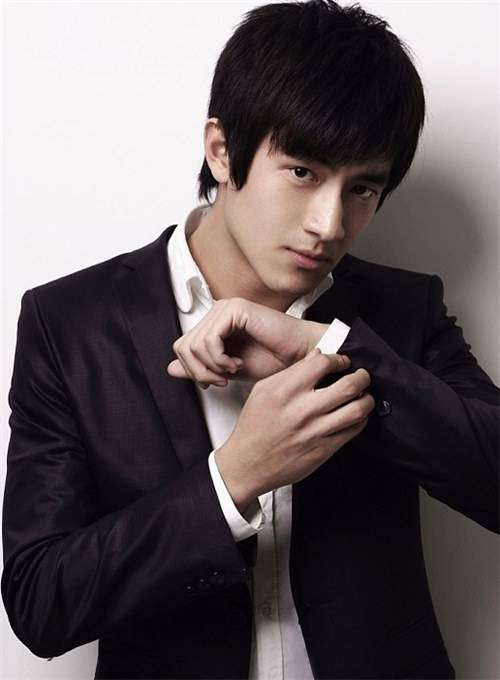person: (117, 7, 468, 597)
